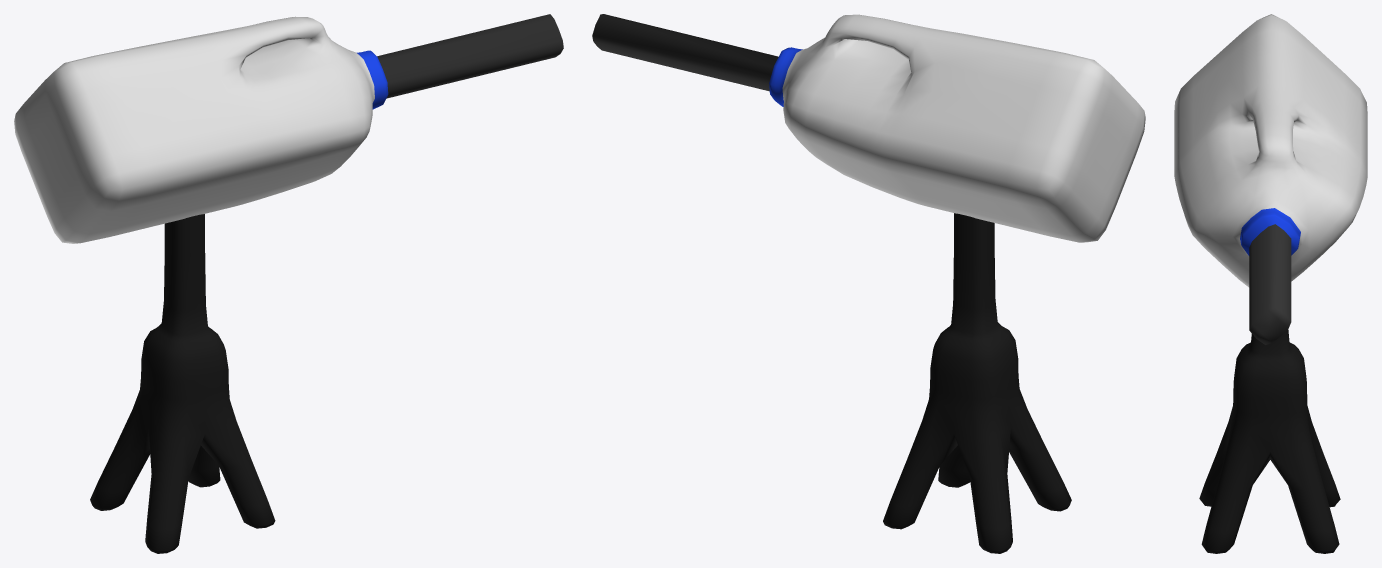
File: MilkGun03.fbx
The picture shows the model from 3 angles, left to right: view 1: azimuth 30°, elevation 25°; view 2: azimuth 150°, elevation 25°; view 3: azimuth 270°, elevation 25°; orthographic projection. The views are drawn at different scales.
Visible parts, largest first — view 1: MilkCanon, MilkStand; view 2: MilkCanon, MilkStand; view 3: MilkCanon, MilkStand.
Boxes of the visible parts, x1,y1,x2,y2 form: MilkCanon: [14, 14, 563, 243]; MilkStand: [90, 214, 275, 553]; MilkCanon: [592, 14, 1145, 242]; MilkStand: [883, 213, 1071, 553]; MilkCanon: [1174, 14, 1367, 344]; MilkStand: [1199, 329, 1340, 553].
Size of the model in its own units: 1495 by 1372 by 524.
